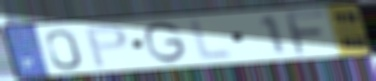0: (42, 27, 86, 71)
1: (258, 14, 290, 55)
F: (282, 9, 330, 57)
G: (142, 20, 189, 65)
L: (188, 17, 237, 63)
P: (83, 23, 131, 70)
